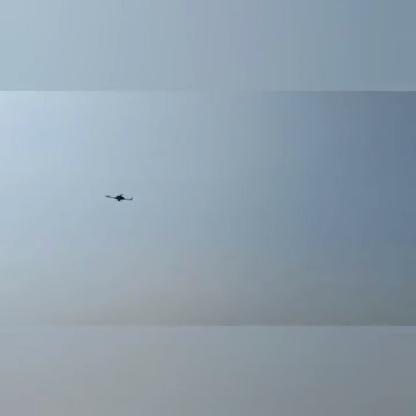drone: (102, 191, 139, 207)
